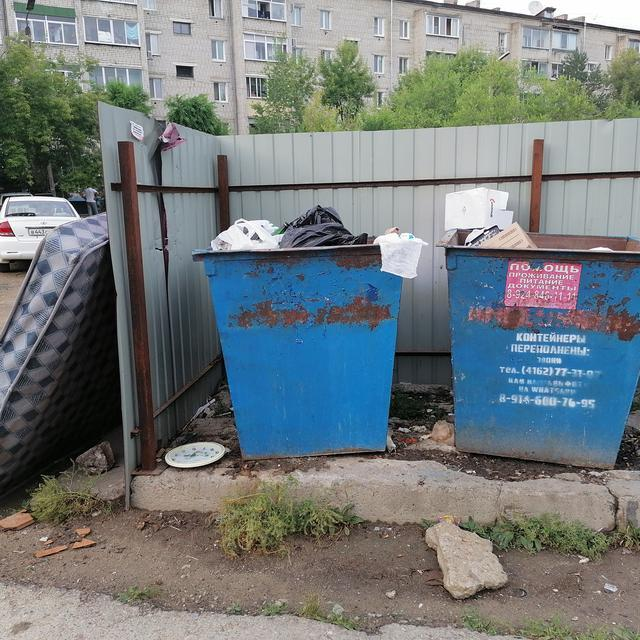Trash_Can_Full: (434, 187, 640, 467), (203, 206, 424, 458)
